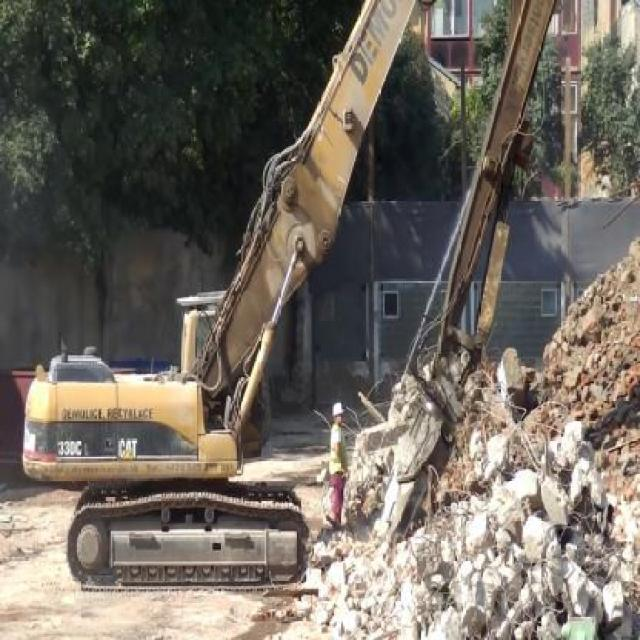excavator: (20, 0, 566, 600)
